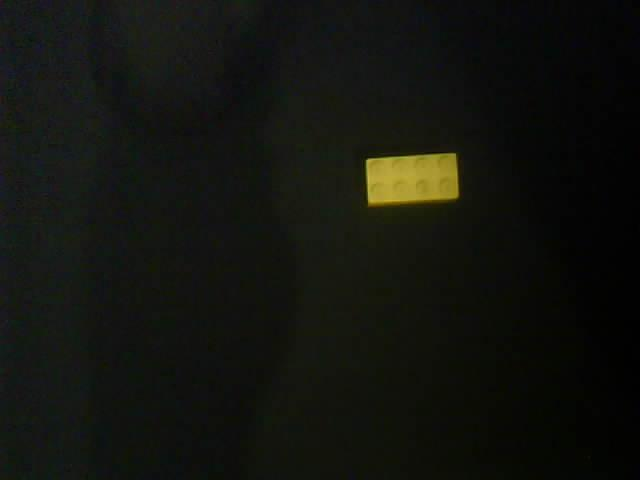lego: (364, 151, 461, 207)
